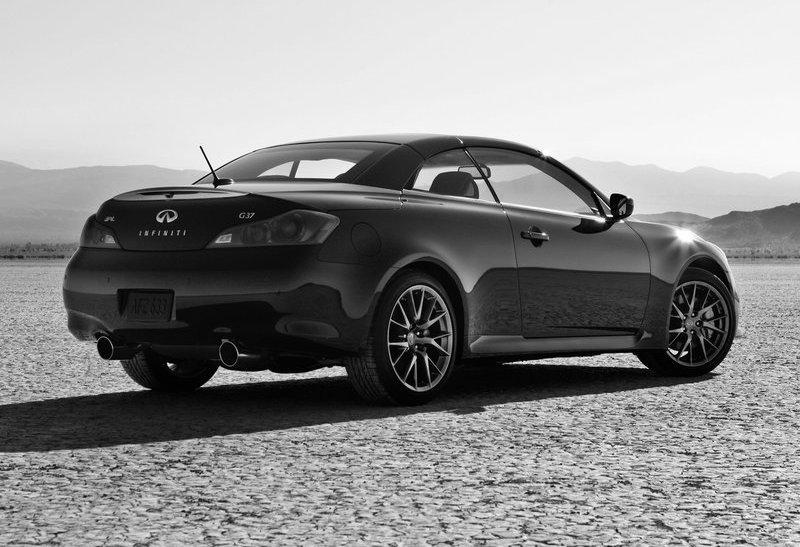car: (61, 132, 744, 406)
